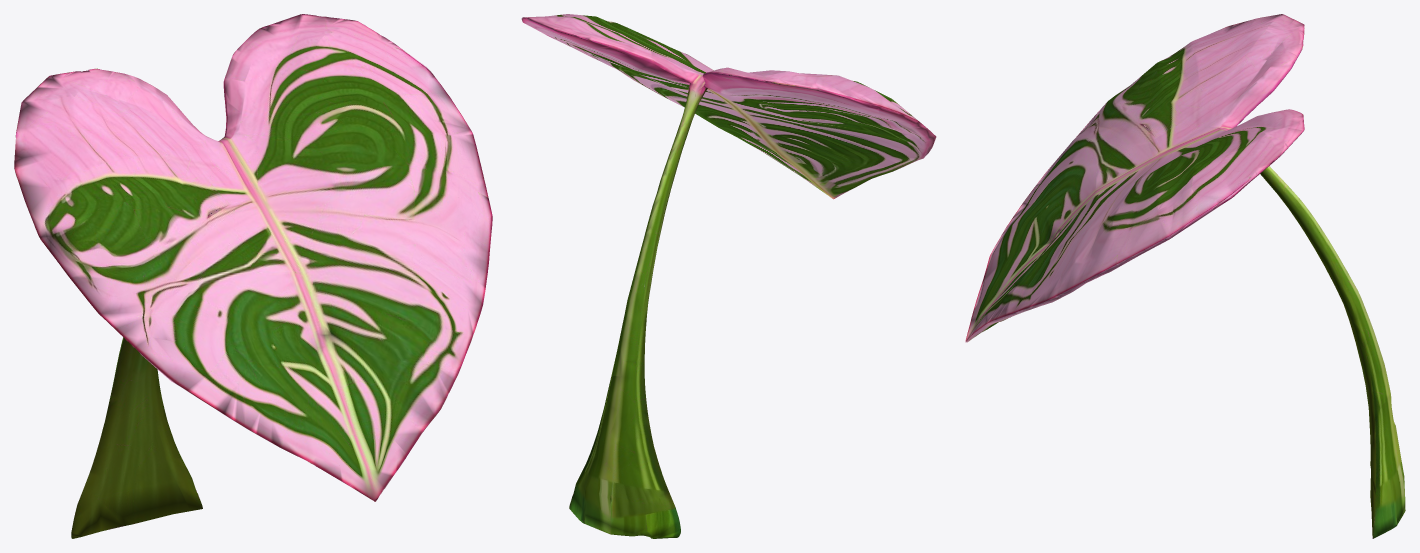
The model's file is pp_leaf_mature_pinkheavy.glb.
The picture shows the model from 3 angles, left to right: view 1: azimuth 30°, elevation 25°; view 2: azimuth 150°, elevation 25°; view 3: azimuth 270°, elevation 25°; orthographic projection. The views are drawn at different scales.
Size of the model in its own units: 1.68 by 1.9 by 1.74.
1 material, 1 textured.
